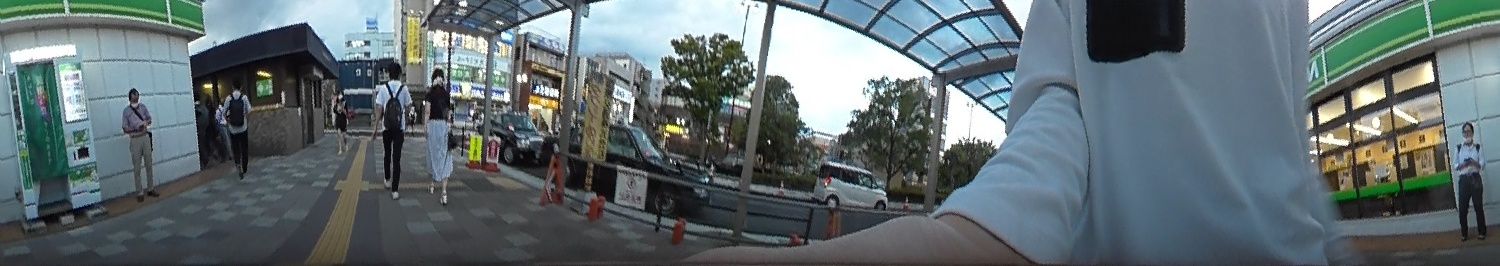person: (365, 59, 410, 201), (421, 65, 463, 199), (1447, 118, 1491, 241), (118, 86, 163, 198), (214, 78, 259, 179), (327, 87, 354, 152)
